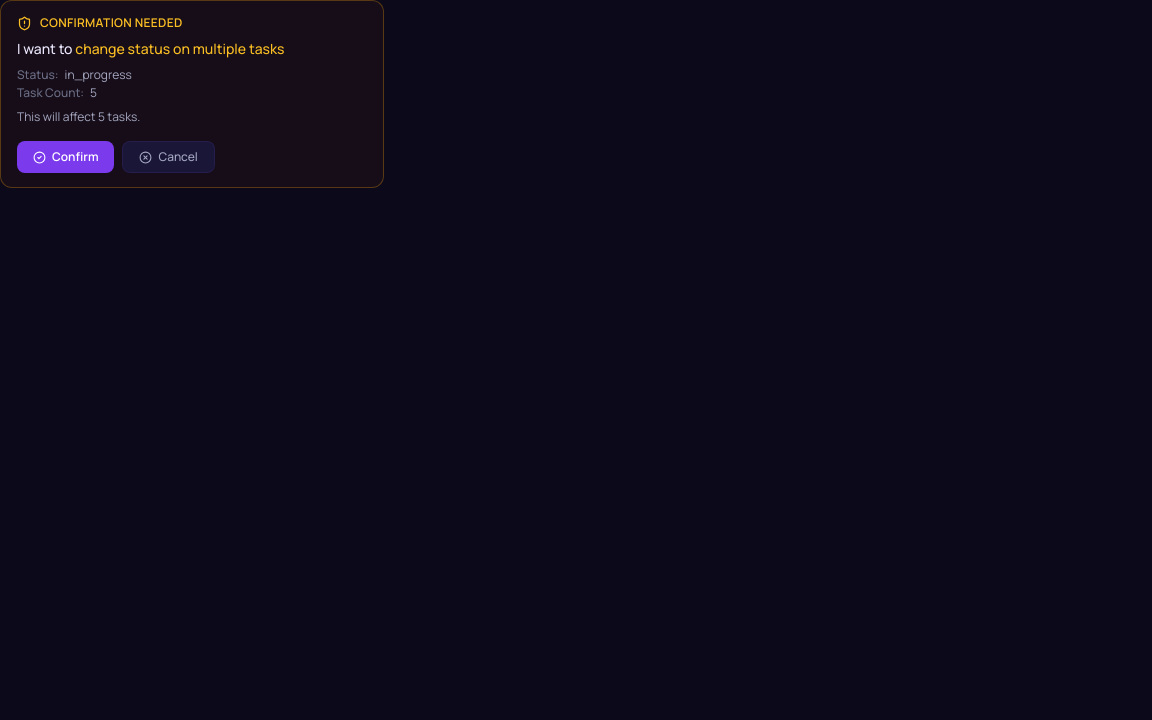
Test case: Tier2ConfirmCard › shows resolved state after Cancel is clicked
Click the button with test id "tier2-cancel-btn": click(169, 157) [122,141,215,173]
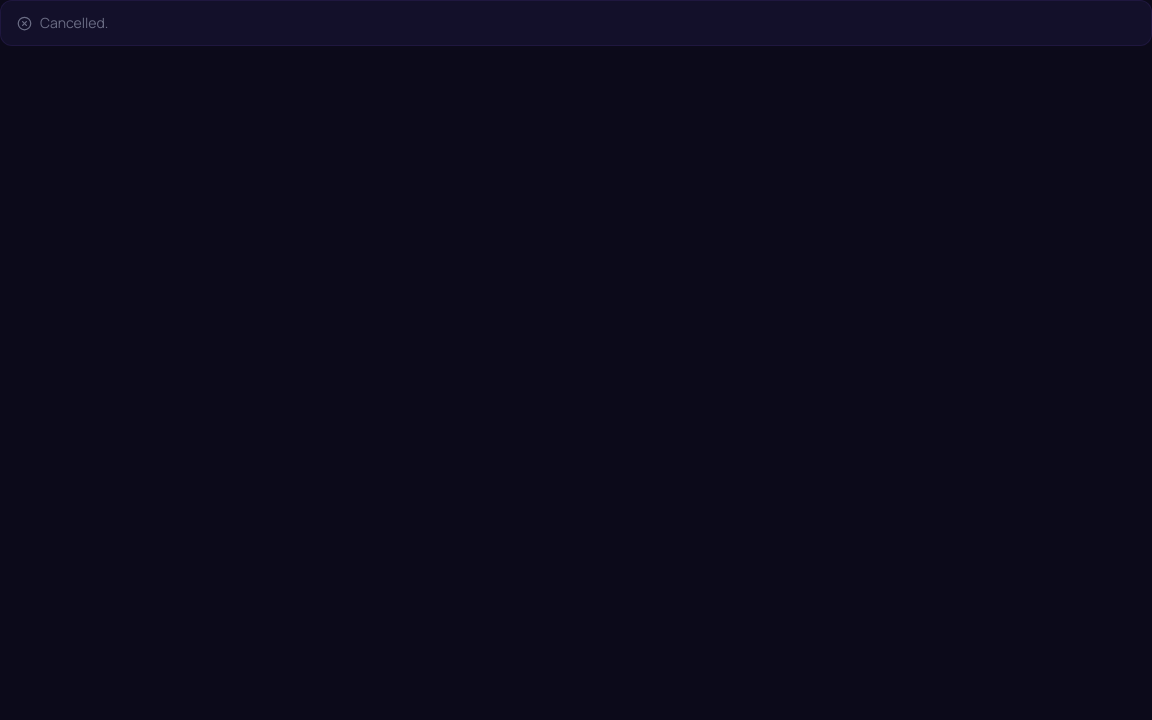
Expected: the text "Cancelled." is shown, [0,0,1151,46]
